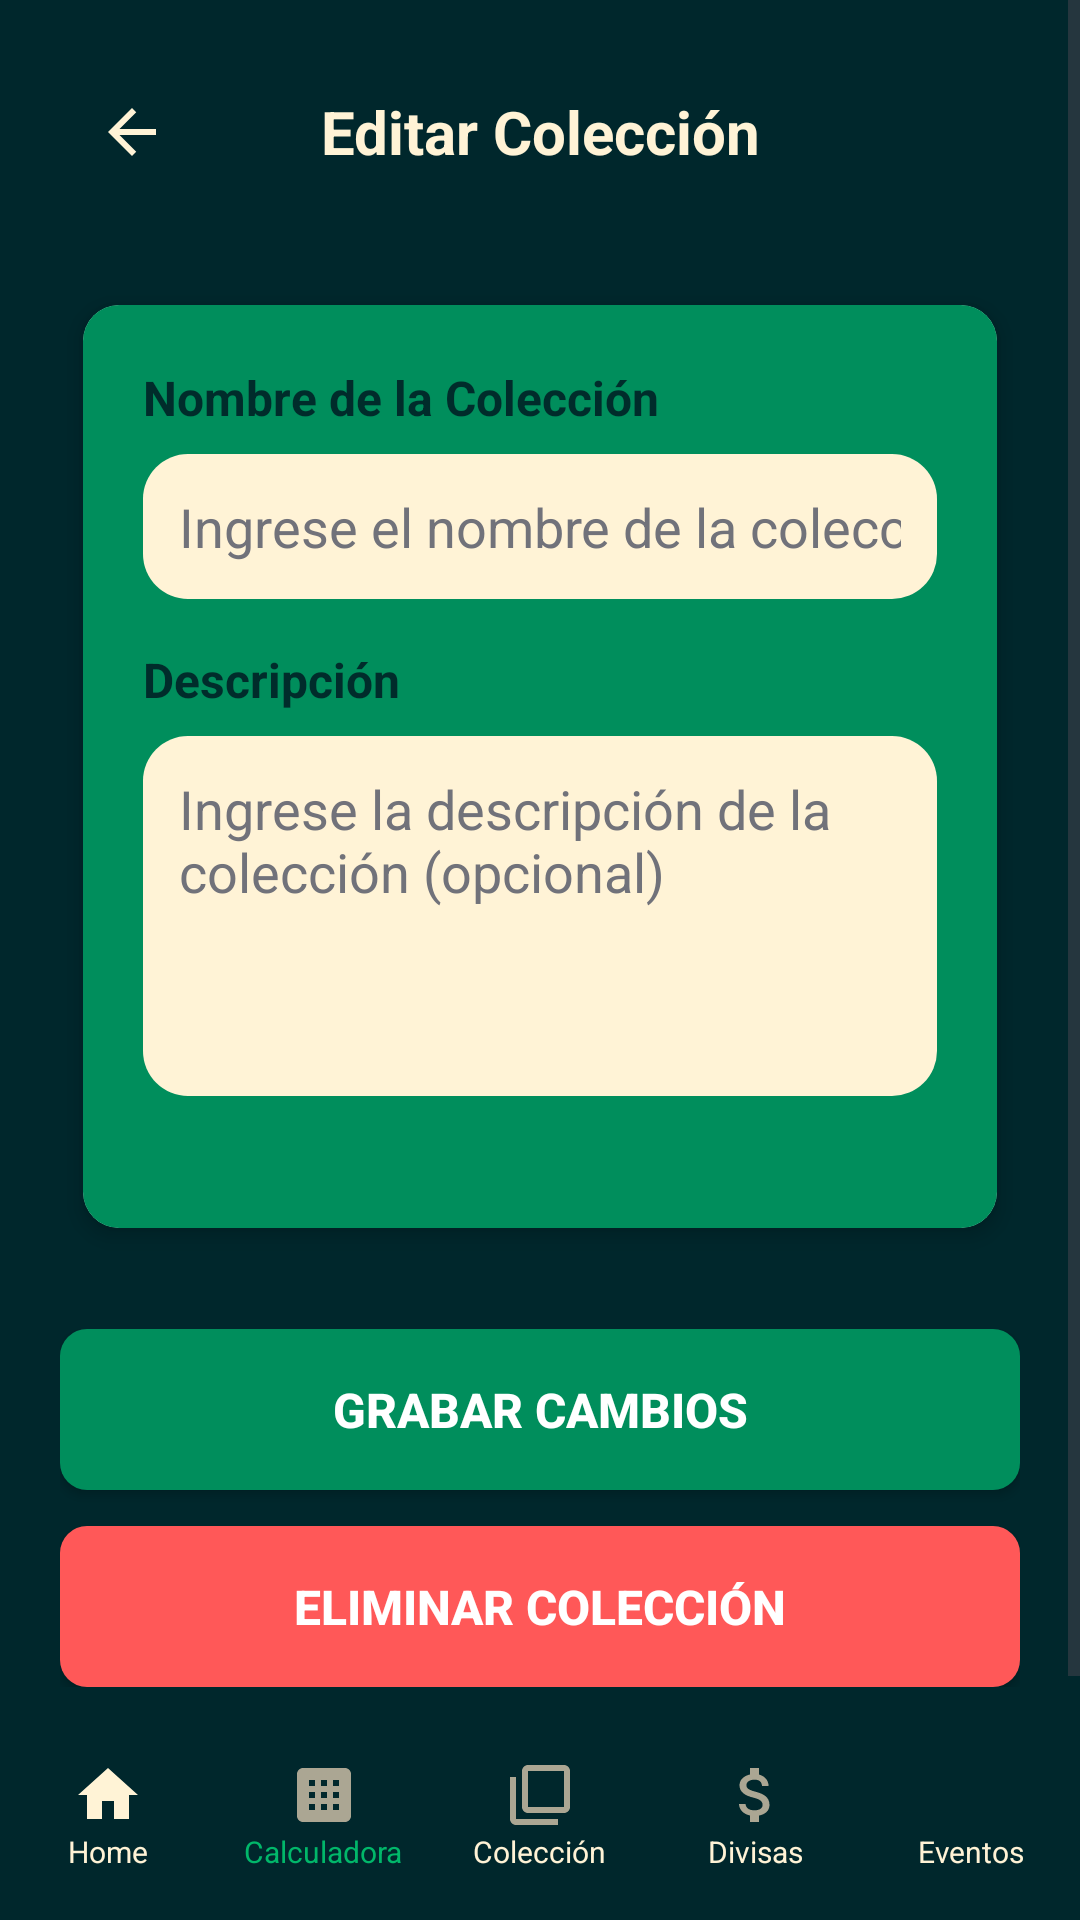

Where to tap for icons on this 1080×1920 app screen, as [x,y]:
Volver: [132,132]
